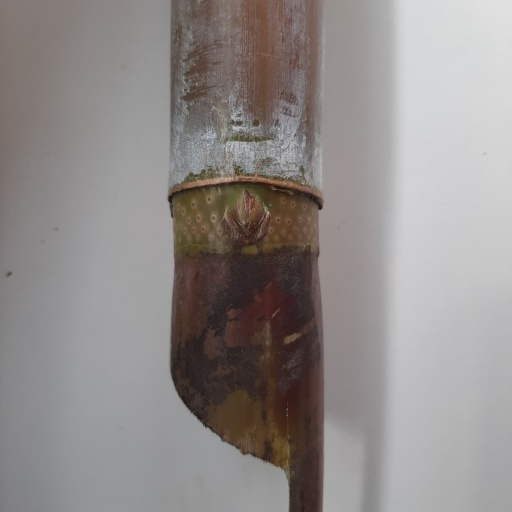Bud: (227, 187, 268, 240)
